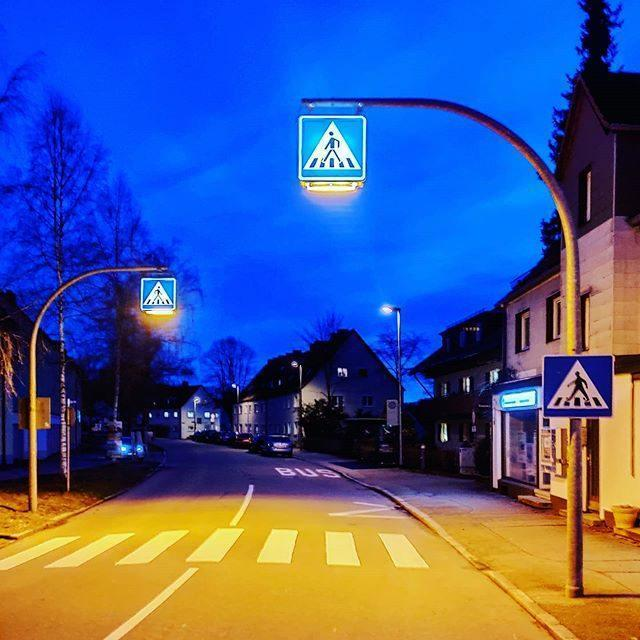crosswalk-sign: (297, 115, 367, 188), (542, 355, 614, 420), (141, 277, 178, 314)
